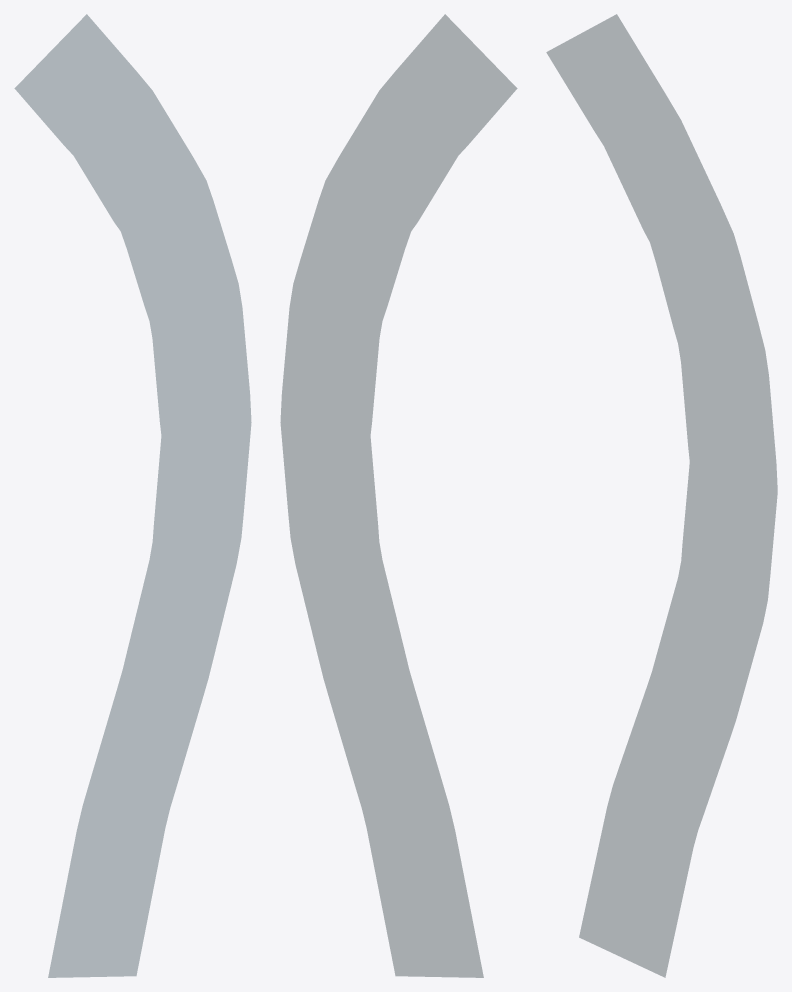
The model's file is SARM_SAR_Water_River_001.glb.
3 renders of one model, left to right at view 1: azimuth 30°, elevation 25°; view 2: azimuth 150°, elevation 25°; view 3: azimuth 330°, elevation 25°, orthographic. The views are drawn at different scales.
Visible parts, largest first — view 1: SAR_Water_River_001.001; view 2: SAR_Water_River_001.001; view 3: SAR_Water_River_001.001.
Part boxes in pixels (x1,y1,x2,y2): SAR_Water_River_001.001: (14, 14, 251, 977); SAR_Water_River_001.001: (280, 14, 517, 977); SAR_Water_River_001.001: (546, 14, 777, 977).
Size of the model in its own units: 45.58 by 179 by 0.
